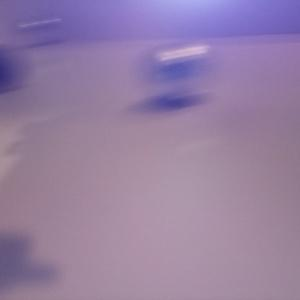alive_ball: (140, 40, 219, 103), (13, 16, 70, 45)
dead_ball: (1, 44, 21, 92)
